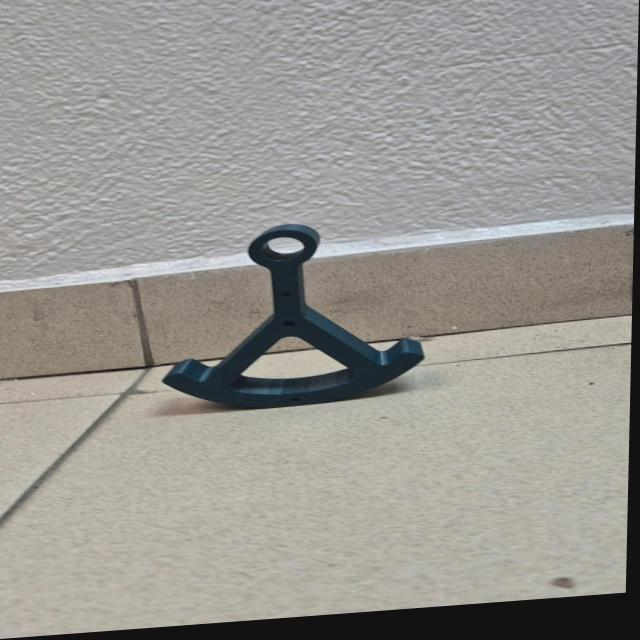haptic: (158, 212, 430, 418)
